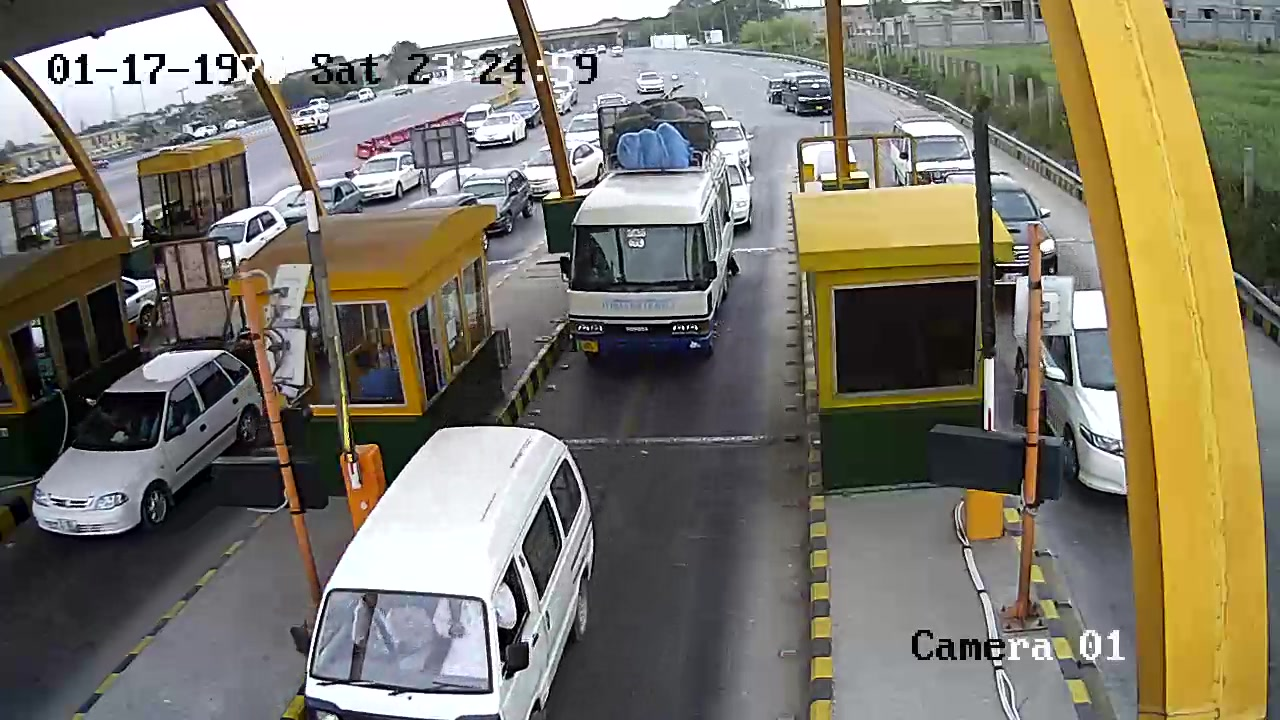F3: (549, 92, 741, 374)
